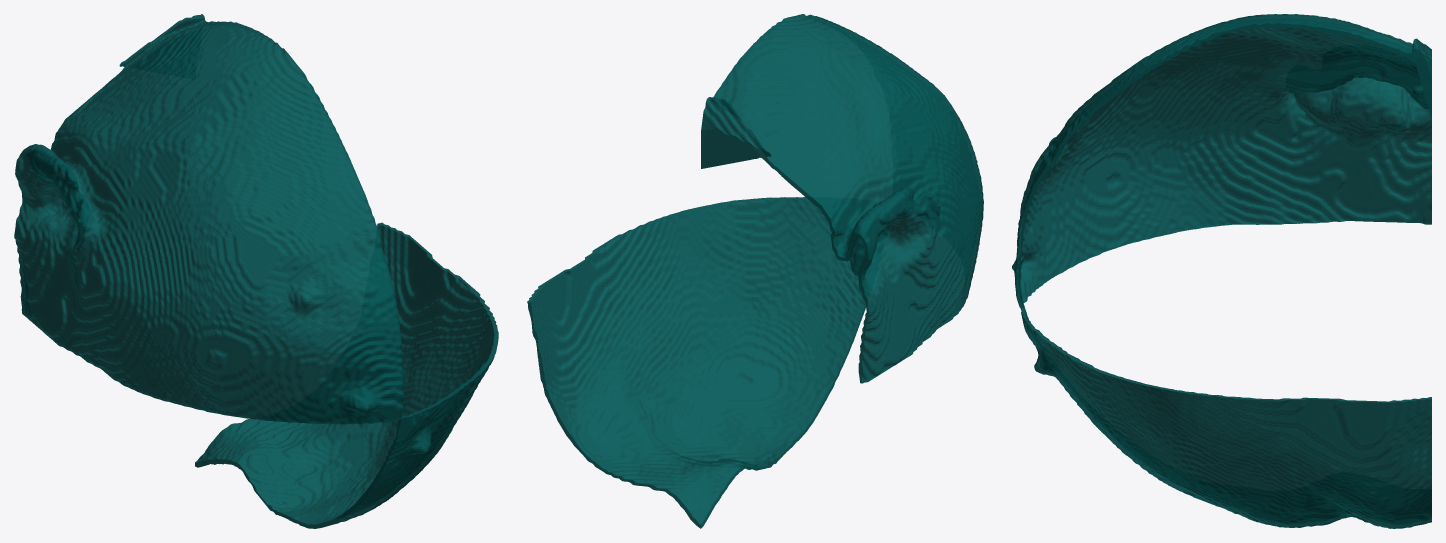
The model's file is Scalp_quadrants.obj.
3 renders of one model, left to right at view 1: azimuth 30°, elevation 25°; view 2: azimuth 150°, elevation 25°; view 3: azimuth 270°, elevation 25°, orthographic. The views are drawn at different scales.
Visible parts, largest first — view 1: grp1; view 2: grp1; view 3: grp1.
Boxes of the visible parts, box(x1,y1,x2,y2) form: grp1: box(14, 14, 498, 528); grp1: box(527, 14, 983, 528); grp1: box(1012, 14, 1431, 528).
Bounding box in the file's own units: 155 × 187 × 147.
